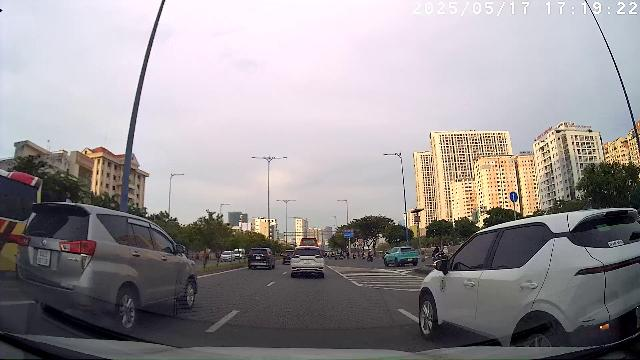301a-cac-xe-chi-duoc-di-thang: (509, 191, 518, 203)
